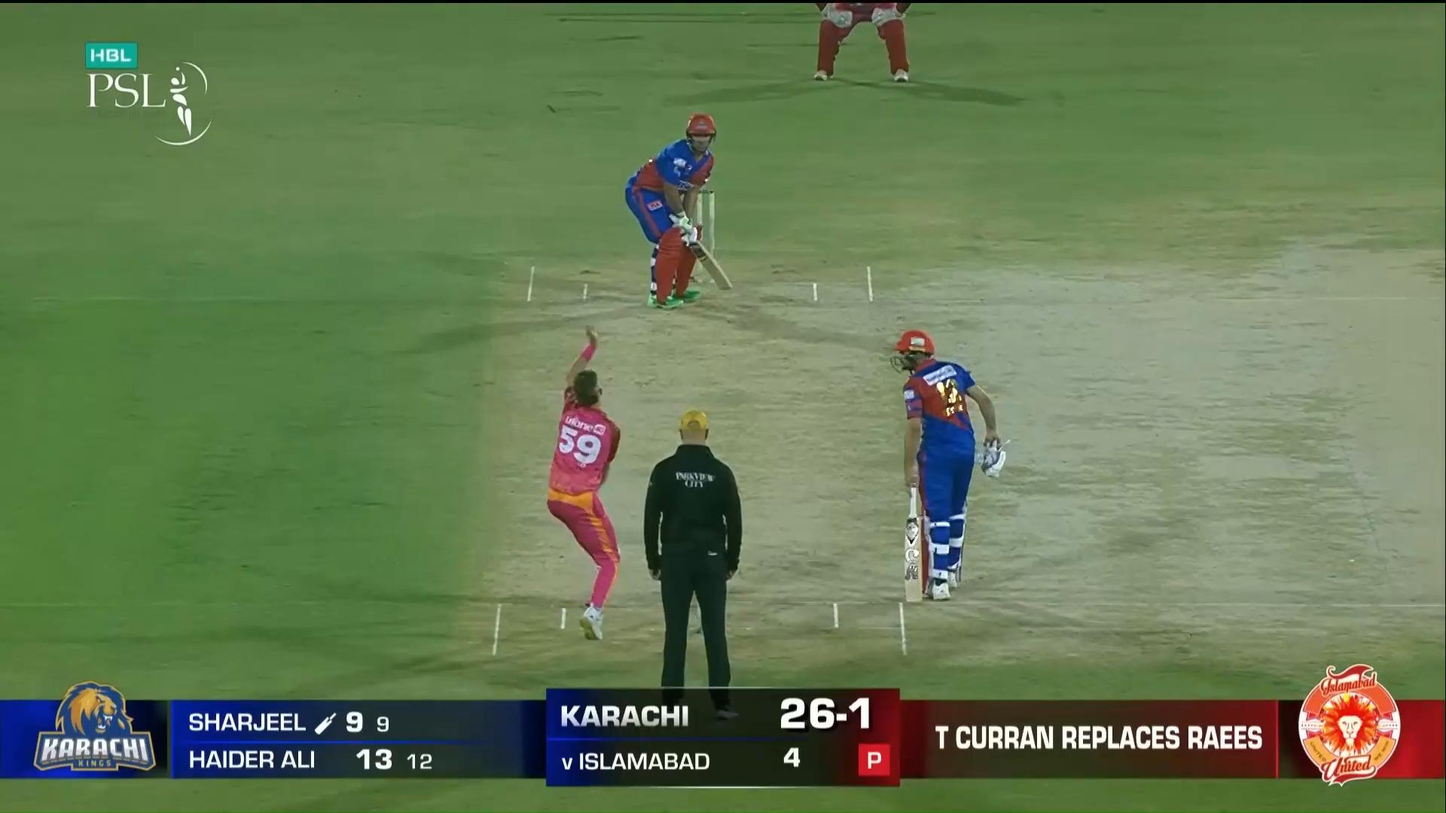batsman: (624, 112, 733, 312)
